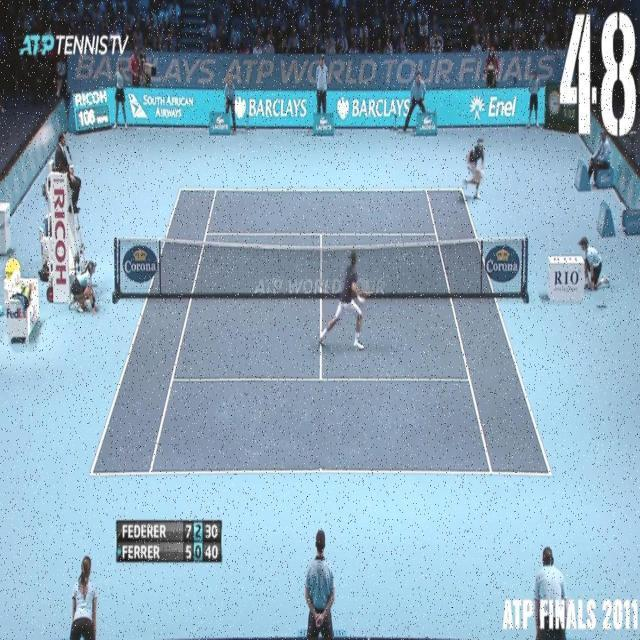left side: (91, 189, 216, 474), (426, 189, 550, 474)
player: (319, 250, 370, 350), (462, 136, 488, 200)
